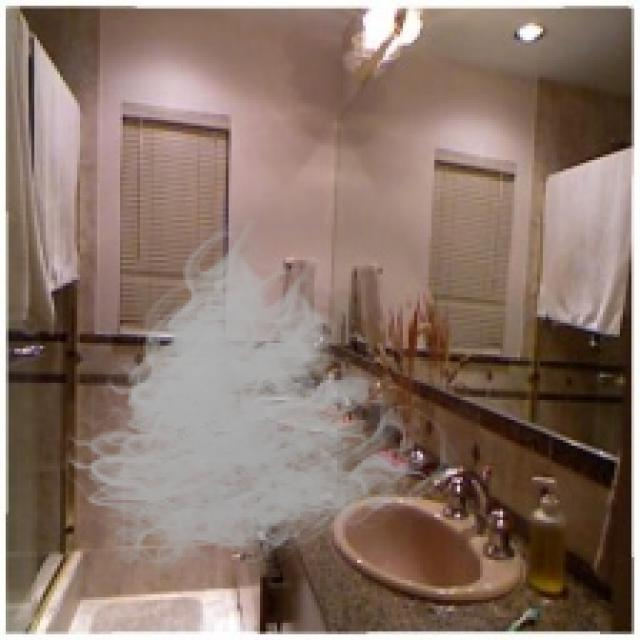smoke: (51, 220, 463, 589)
